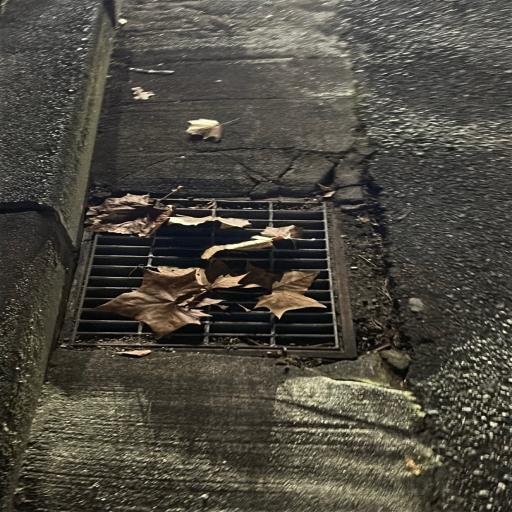debris: (97, 260, 326, 339), (87, 194, 253, 236), (201, 225, 305, 259)
drain: (57, 197, 358, 358)
